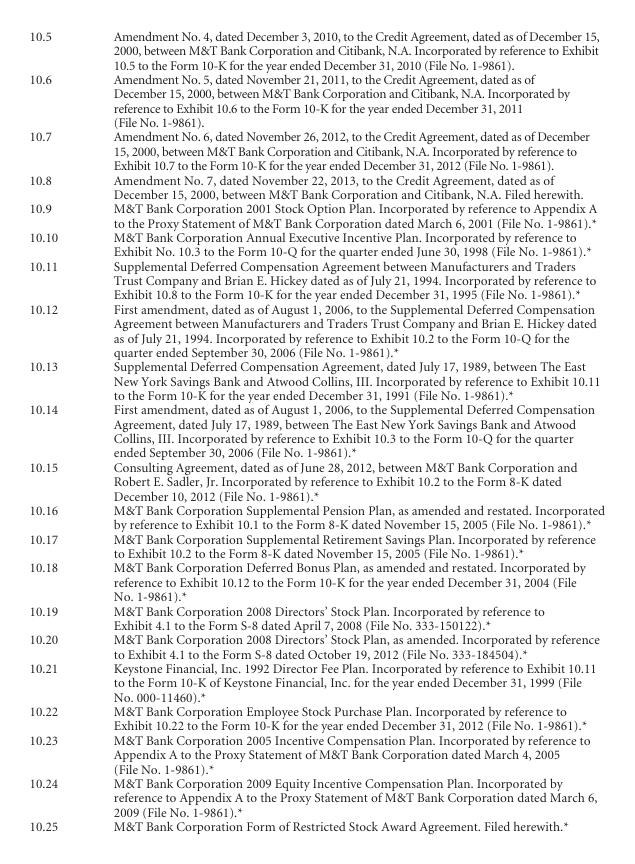table: (28, 29, 604, 833)
table column: (85, 29, 604, 833), (28, 29, 85, 833)
table row: (28, 301, 604, 359), (28, 72, 604, 129), (28, 402, 604, 459), (28, 459, 604, 503), (28, 732, 604, 776), (28, 29, 604, 72), (28, 129, 604, 172), (28, 258, 604, 301), (28, 359, 604, 402), (28, 560, 604, 603), (28, 661, 604, 704), (28, 776, 604, 819), (28, 172, 604, 201), (28, 201, 604, 230), (28, 531, 604, 560), (28, 603, 604, 632), (28, 632, 604, 661), (28, 230, 604, 258), (28, 503, 604, 531), (28, 704, 604, 732), (28, 819, 604, 833)
